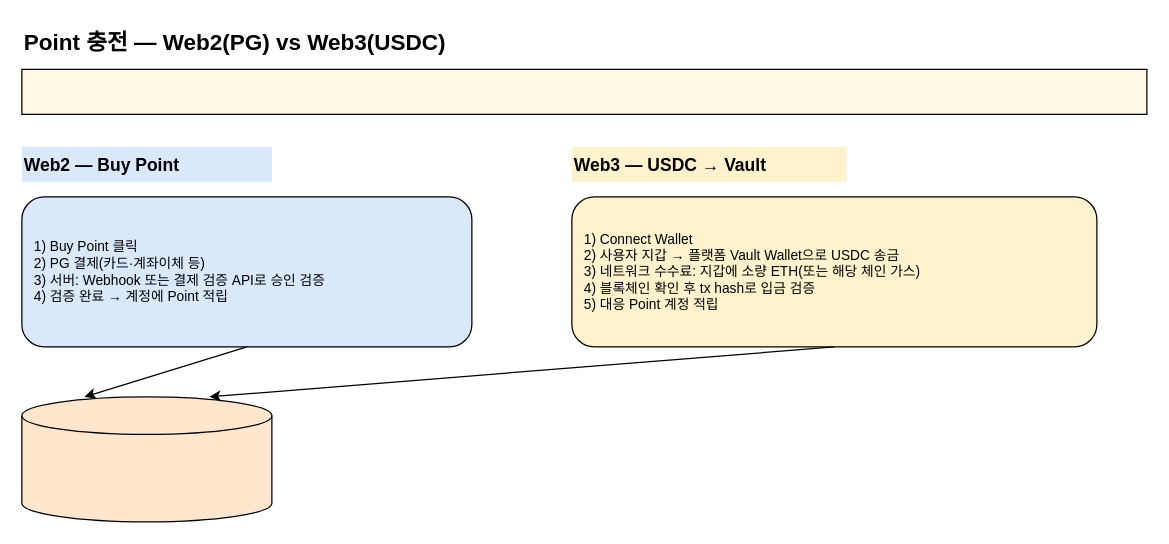
Some shapes in this 1169 by 544 pixel diagram are drawn without their labels. The box of each missing label's shape, as (x1, y1, x2, y2) in pixels:
공통: 플랫폼 접속 후 Web2 로그인/회원가입(신원) + (선택) Connect Wallet: (21, 68, 1147, 114)
플랫폼 계정 (Ledger) Point 잔액 · 사용자 ID와 연동: (21, 396, 272, 522)
